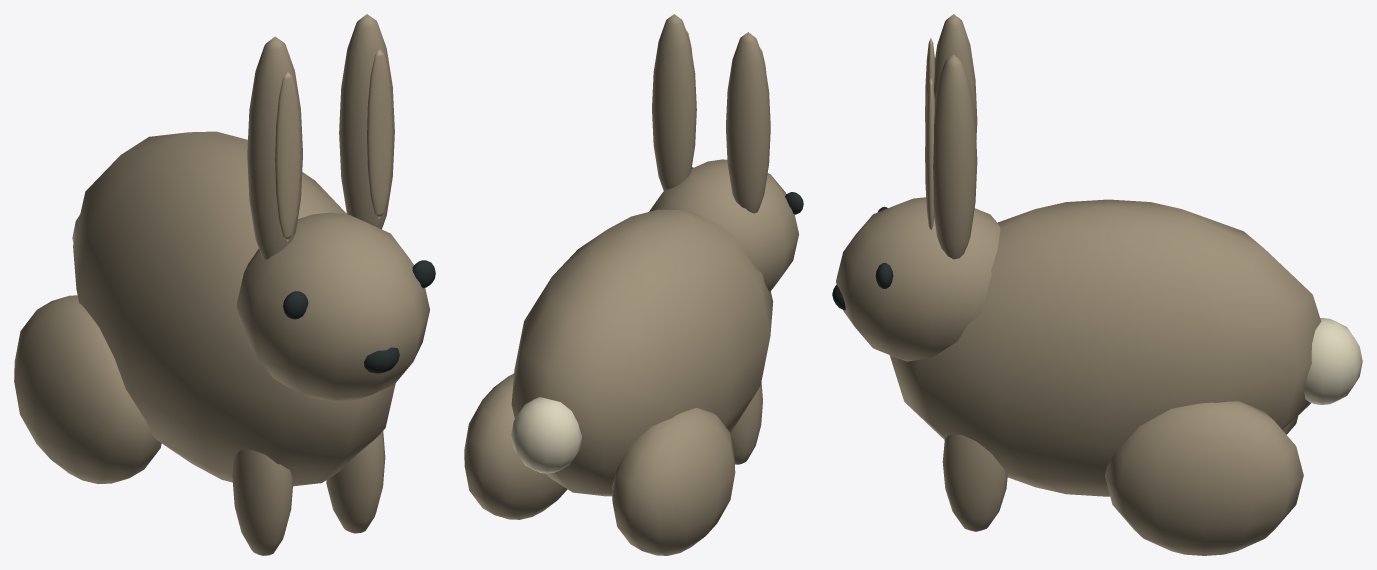
The model's file is hare.glb.
3 views of the same model, side by side, from view 1: azimuth 30°, elevation 25°; view 2: azimuth 150°, elevation 25°; view 3: azimuth 270°, elevation 25° (orthographic). The views are drawn at different scales.
Parts seen in each view (by area): view 1: body, head, hind-leg-1, ear-1, ear1, fore-leg-1, fore-leg1, inner-ear-1, inner-ear1, nose, eye-1; view 2: body, hind-leg-1, head, hind-leg1, ear-1, ear1, tail, fore-leg-1; view 3: body, hind-leg1, head, ear1, fore-leg1, tail, ear-1, inner-ear1.
Part boxes in pixels (x1,y1,x2,y2): body: [73, 131, 395, 486]; head: [236, 212, 429, 402]; hind-leg-1: [14, 295, 161, 483]; ear-1: [247, 36, 302, 260]; ear1: [339, 14, 394, 229]; fore-leg-1: [232, 450, 293, 555]; fore-leg1: [326, 431, 385, 533]; inner-ear-1: [275, 72, 300, 241]; inner-ear1: [367, 49, 392, 218]; nose: [364, 347, 399, 373]; eye-1: [283, 291, 308, 319]; body: [511, 209, 773, 496]; hind-leg-1: [612, 407, 735, 555]; head: [649, 159, 798, 292]; hind-leg1: [464, 373, 567, 519]; ear-1: [726, 32, 770, 213]; ear1: [652, 14, 696, 190]; tail: [511, 397, 581, 473]; fore-leg-1: [730, 382, 762, 464]; body: [889, 199, 1321, 496]; hind-leg1: [1105, 401, 1303, 555]; head: [836, 197, 1000, 361]; ear1: [933, 54, 977, 259]; fore-leg1: [942, 434, 1007, 531]; tail: [1304, 318, 1362, 404]; ear-1: [934, 14, 977, 140]; inner-ear1: [925, 78, 934, 230].
Bounding box in the file's own units: 0.42 × 0.715 × 0.72.
